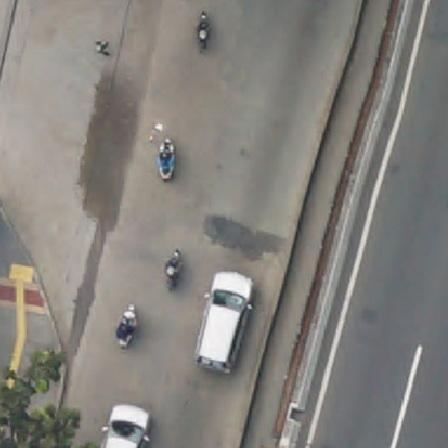Car: (194, 271, 256, 376), (104, 407, 155, 448)
Motorcycle: (153, 137, 182, 181), (113, 303, 142, 347), (159, 251, 187, 290), (192, 11, 213, 56)
